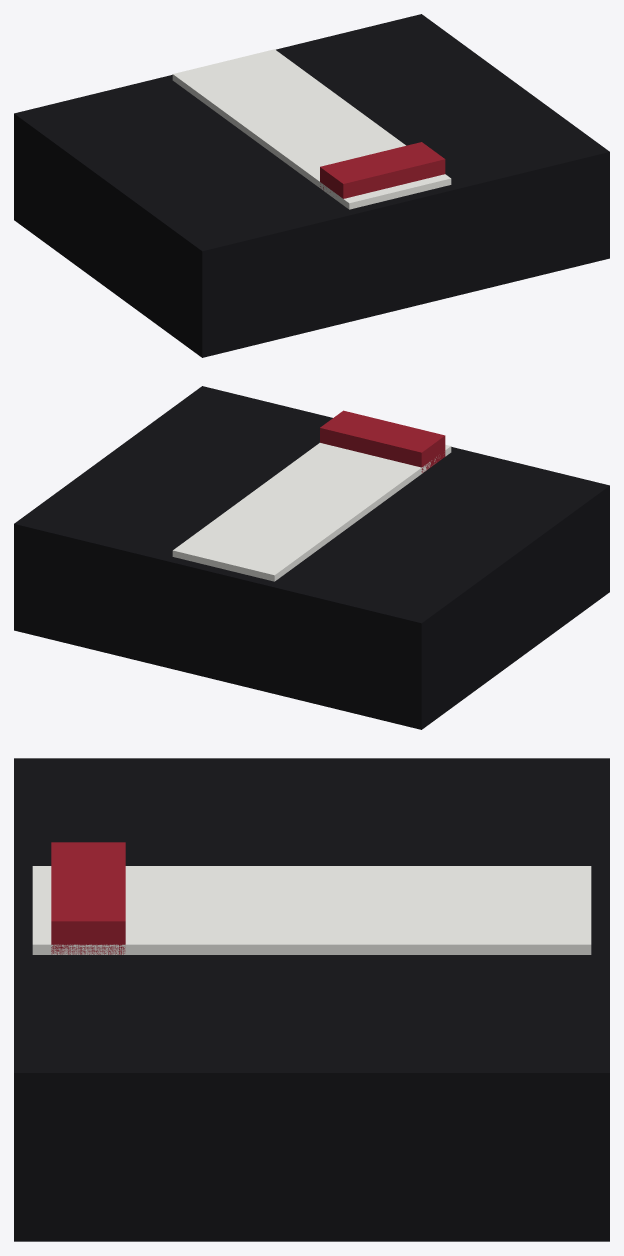
File: folded_auction_tailcoat.glb
The picture shows the model from 3 angles, top to bottom: view 1: azimuth 30°, elevation 25°; view 2: azimuth 150°, elevation 25°; view 3: azimuth 270°, elevation 25°; orthographic projection. The views are drawn at different scales.
Visible parts, largest first — view 1: coat_auction_black, shirt_auction_shirt, bow_auction_red; view 2: coat_auction_black, shirt_auction_shirt, bow_auction_red; view 3: coat_auction_black, shirt_auction_shirt, bow_auction_red.
Part boxes in pixels (left/top/right/bottom): coat_auction_black: left=14, top=14, right=609, bottom=357; shirt_auction_shirt: left=172, top=49, right=451, bottom=209; bow_auction_red: left=320, top=142, right=445, bottom=198; coat_auction_black: left=14, top=386, right=609, bottom=729; shirt_auction_shirt: left=172, top=443, right=451, bottom=581; bow_auction_red: left=320, top=410, right=445, bottom=472; coat_auction_black: left=14, top=758, right=609, bottom=1241; shirt_auction_shirt: left=32, top=866, right=591, bottom=954; bow_auction_red: left=51, top=842, right=125, bottom=954.
Size of the model in its own units: 0.4 by 0.12 by 0.32.
